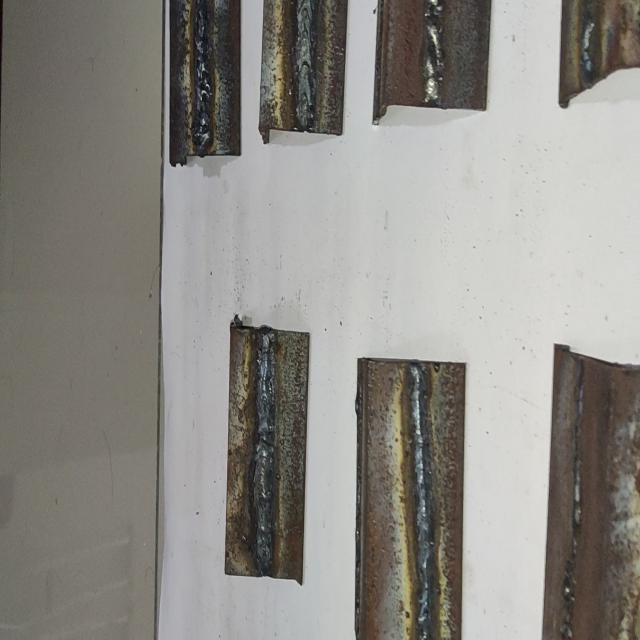Bad Weld: (195, 0, 212, 151), (425, 0, 443, 101)
Defect: (194, 1, 212, 149), (424, 2, 444, 102)
Good Weld: (410, 364, 433, 640), (255, 331, 278, 572), (295, 0, 314, 126)
